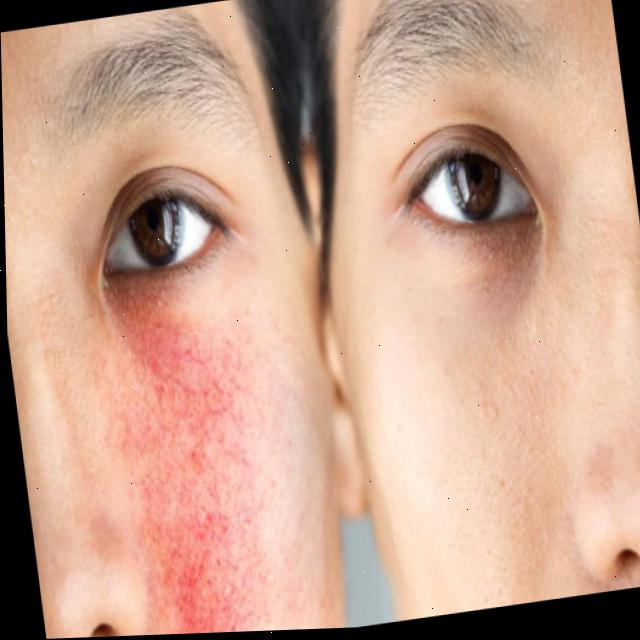Rosacea: (101, 275, 281, 636)
